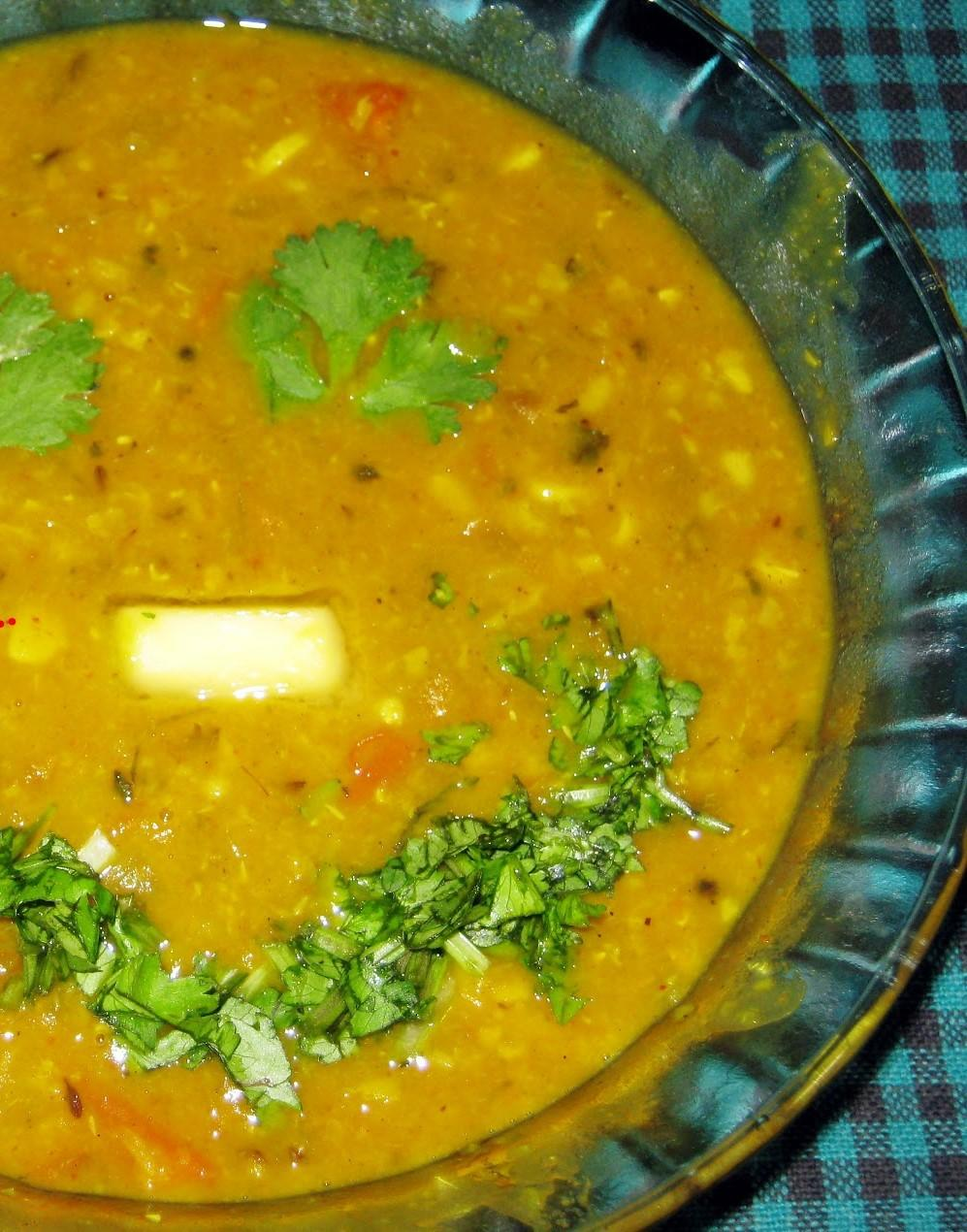Dal: (0, 32, 825, 1197)
